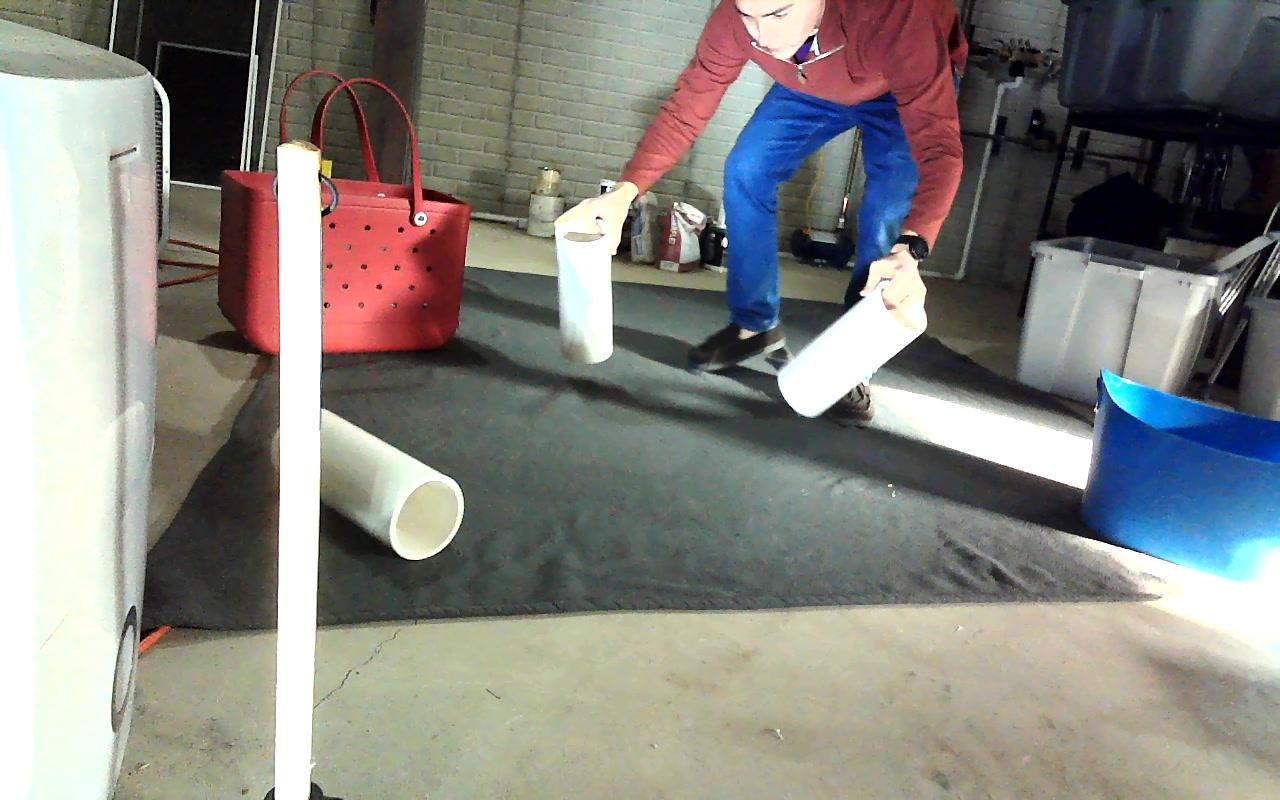coral: (321, 406, 464, 559), (779, 284, 927, 415), (555, 205, 612, 364)
